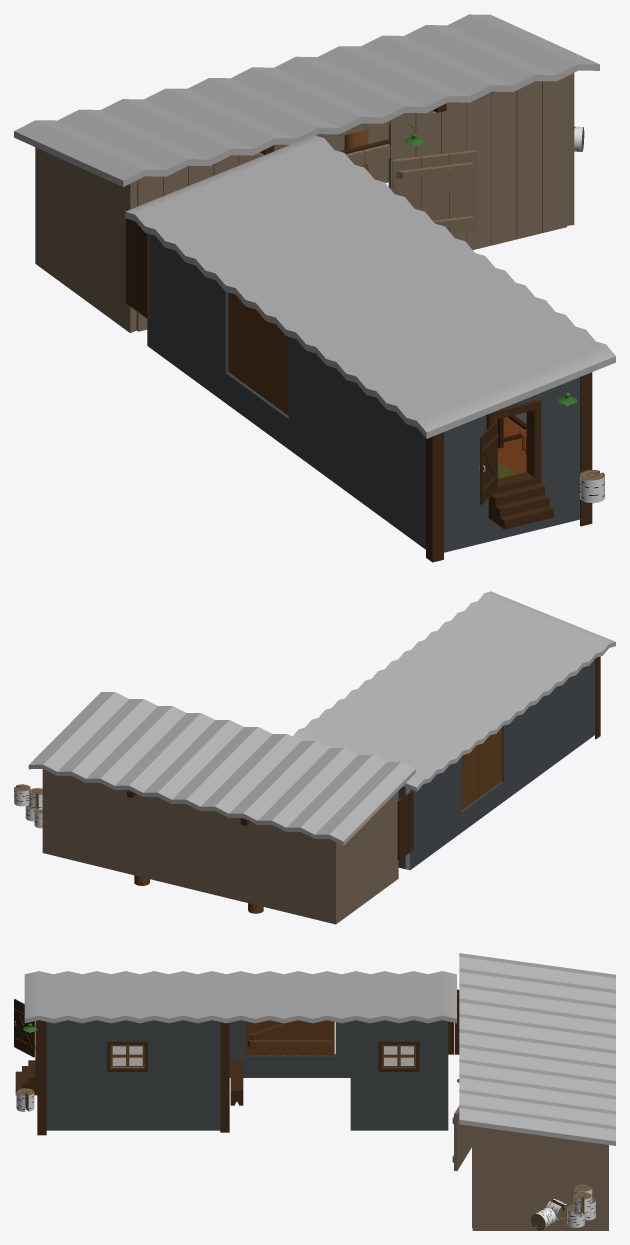
Rendered from Две сарайки.fbx.
3 views of the same model, one above another, from view 1: azimuth 30°, elevation 25°; view 2: azimuth 150°, elevation 25°; view 3: azimuth 270°, elevation 25° (orthographic). The views are drawn at different scales.
Parts seen in each view (by area): view 1: Куб.112, Куб.136, Куб.115, Куб.113, Куб.132, Куб.128, Куб.194, Куб.126, Куб.209, Куб.127, Плоскость.031, Куб.193 (+1 smaller); view 2: Куб.112, Куб.136, Куб.115, Куб.132, Куб.209, Куб.128; view 3: Куб.112, Куб.115, Куб.136, Куб.132, Куб.127, Куб.113, Куб.193, Куб.197, Куб.126, Куб.138, Куб.137, Плоскость.037 (+7 smaller).
Part boxes in pixels (x1,y1,x2,y2): Куб.112: (14,14,599,333); Куб.136: (125,135,615,438); Куб.115: (147,234,580,552); Куб.113: (392,150,477,234); Куб.132: (228,292,288,415); Куб.128: (426,432,443,562); Куб.194: (486,399,541,497); Куб.126: (488,483,553,529); Куб.209: (126,218,149,318); Куб.127: (580,372,592,526); Плоскость.031: (495,417,526,474); Куб.193: (480,420,497,504); Куб.112: (28,692,415,924); Куб.136: (292,591,615,791); Куб.115: (398,659,595,870); Куб.132: (462,727,502,809); Куб.209: (397,790,413,860); Куб.128: (595,656,600,739); Куб.112: (459,953,615,1230); Куб.115: (46,1020,448,1130); Куб.136: (24,971,456,1023); Куб.132: (245,1020,334,1055); Куб.127: (37,1020,229,1135); Куб.113: (452,1106,471,1170); Куб.193: (14,999,34,1057); Куб.197: (230,1061,243,1105); Куб.126: (15,1060,37,1095); Куб.138: (378,1041,419,1071); Куб.137: (107,1041,147,1071); Плоскость.037: (112,1046,142,1065).
Bounding box in the file's own units: 604 × 211 × 844.
